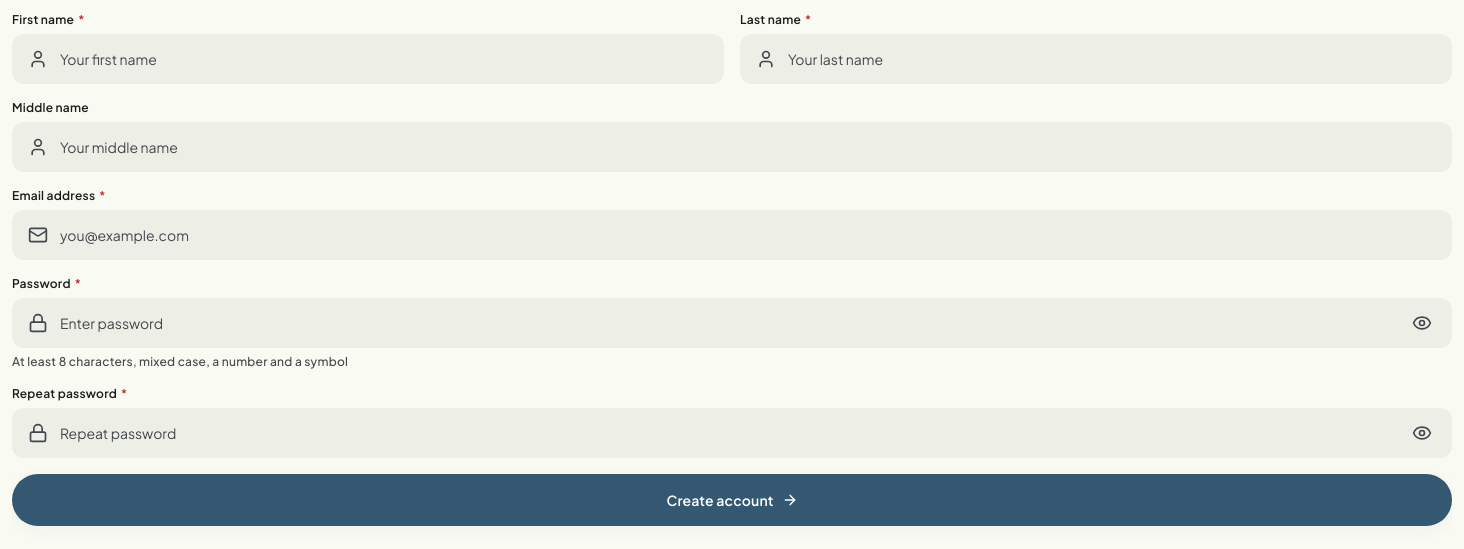
Test: RegisterForm › rates Chores12! as Good
In the password field labelled "Password": (732, 323) [12,298,1452,348], type "Chores12!"
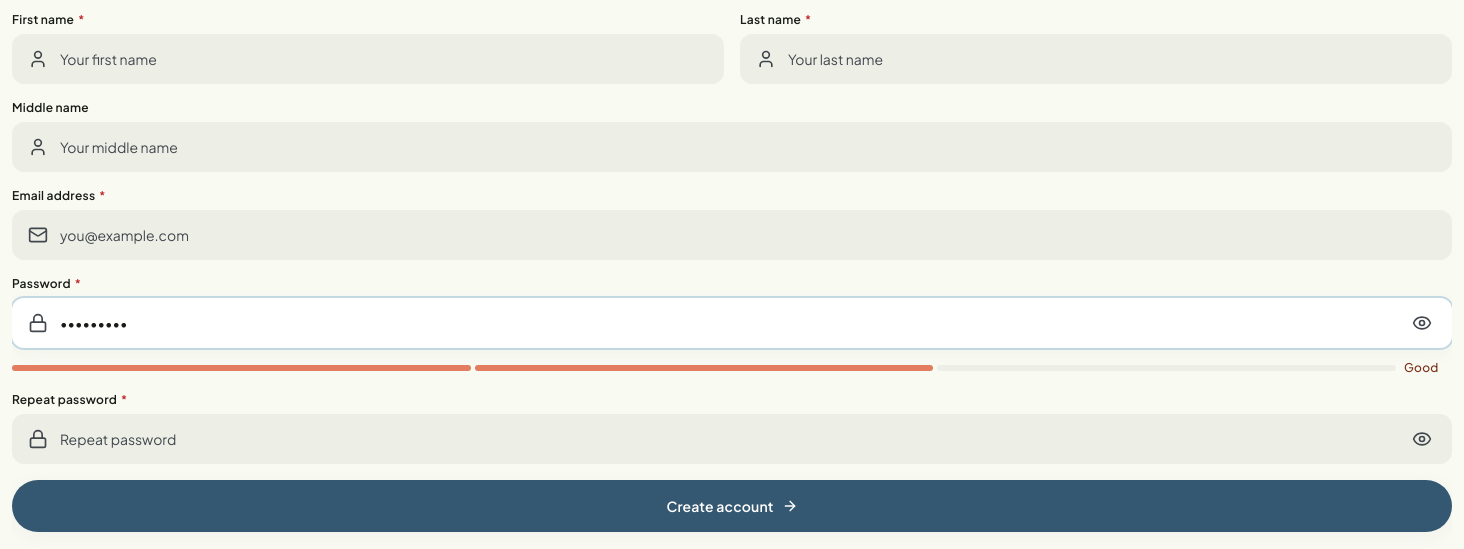
expect the text "Good" is shown: met, box [1404,360,1438,375]
